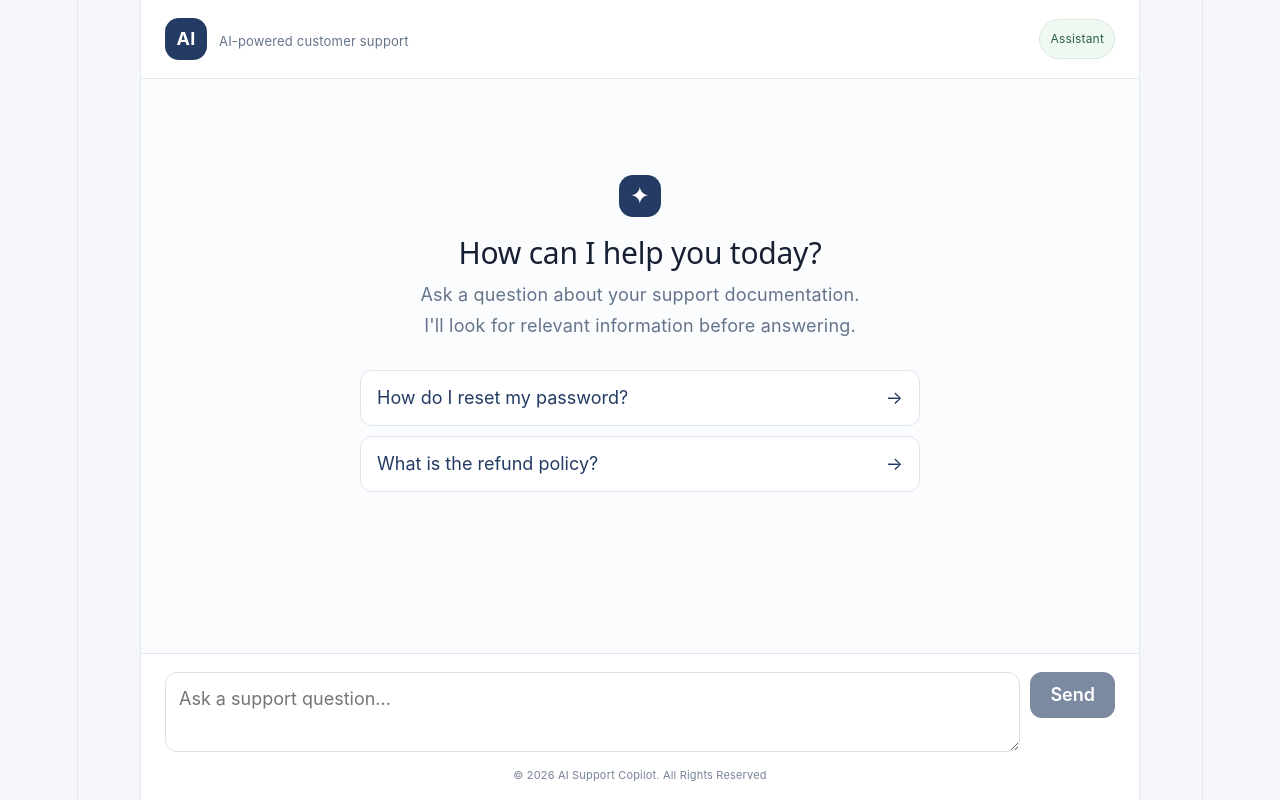
Test: AI Support Copilot › sends a question and displays the AI answer
In the text box named "Your question": (593, 712) [165,672,1020,752], type "How do I reset my password?"
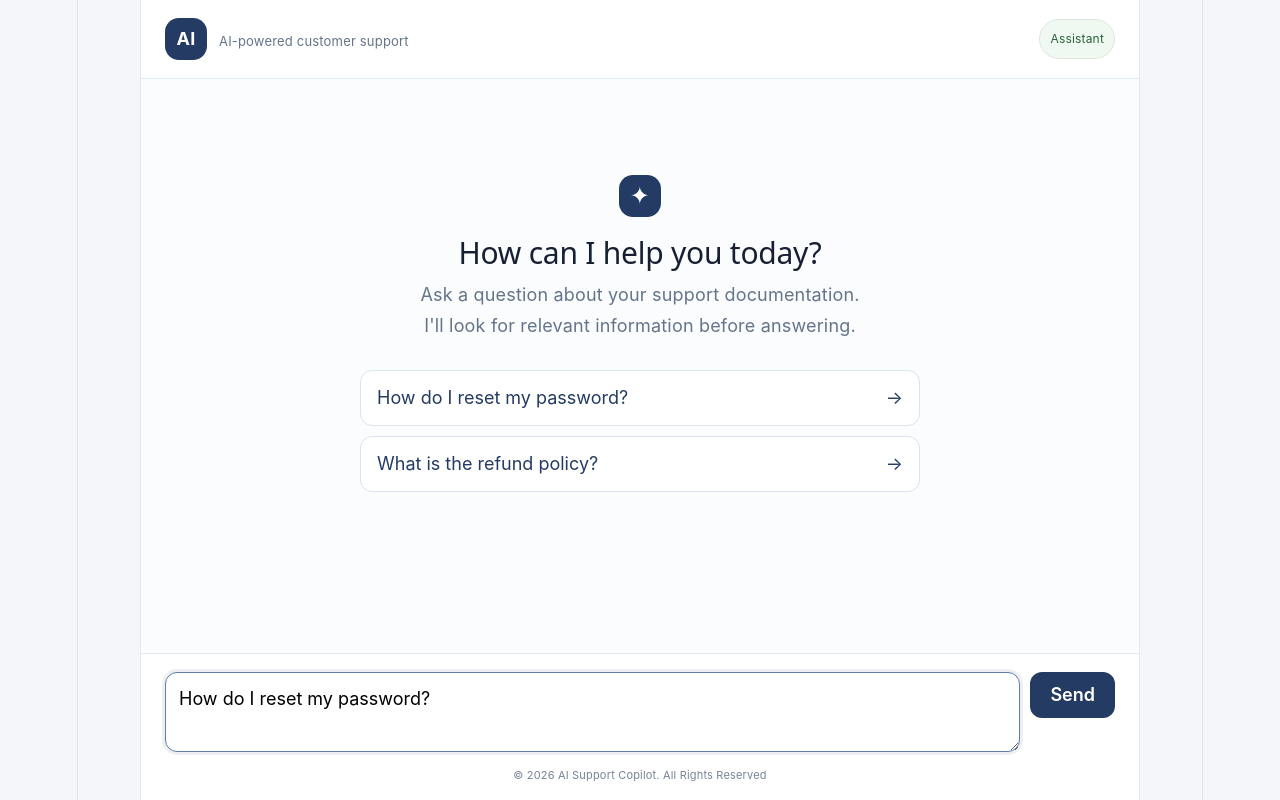
Click the button "Send": (1073, 695) [1030,672,1115,718]
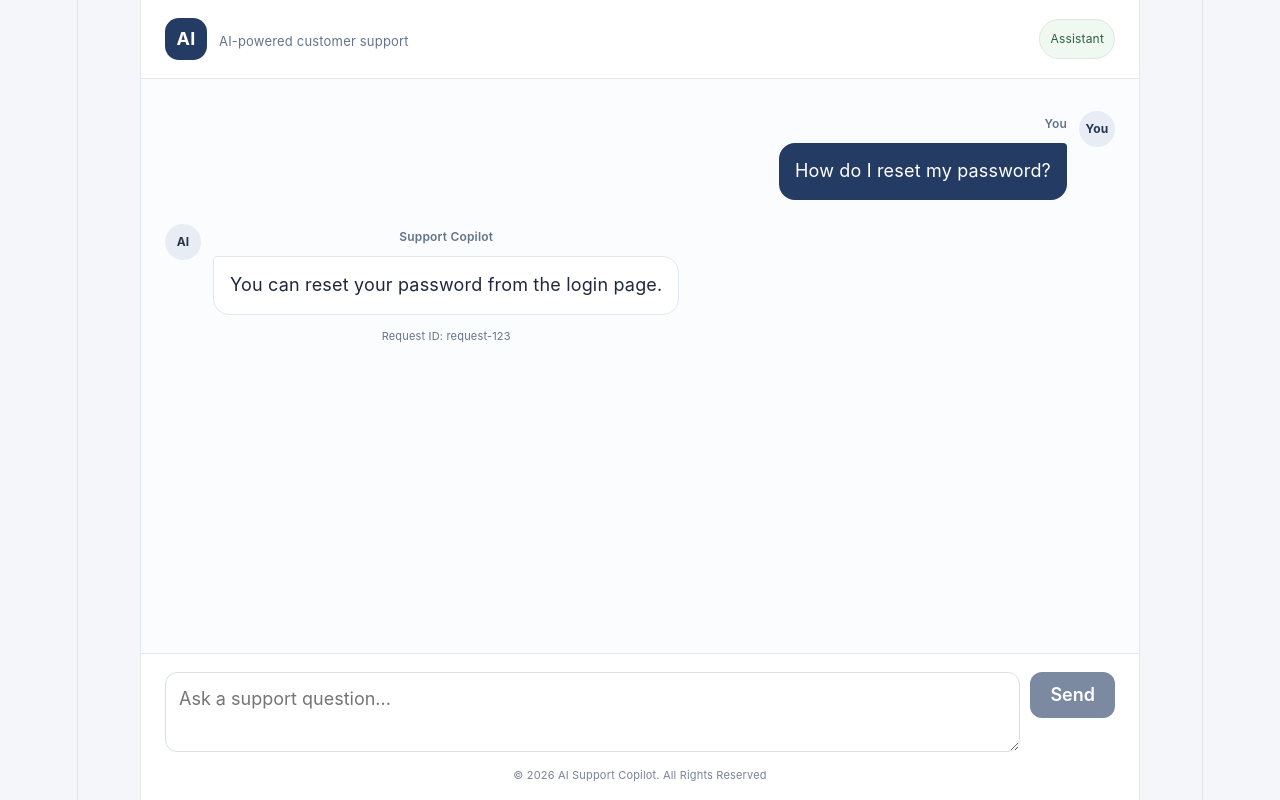
Expected: the text "You can reset your password from the login page." is shown, [230,271,662,300]
Expected: the text "Request ID: request-123" is shown, [382,329,511,343]
